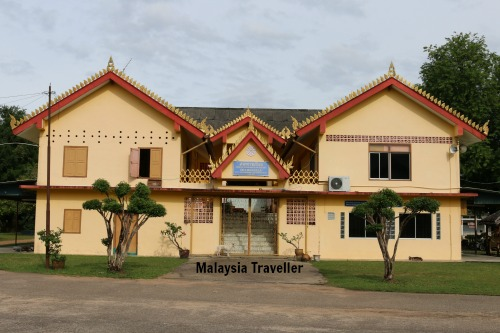Buddhist Temple: (23, 55, 465, 258)
